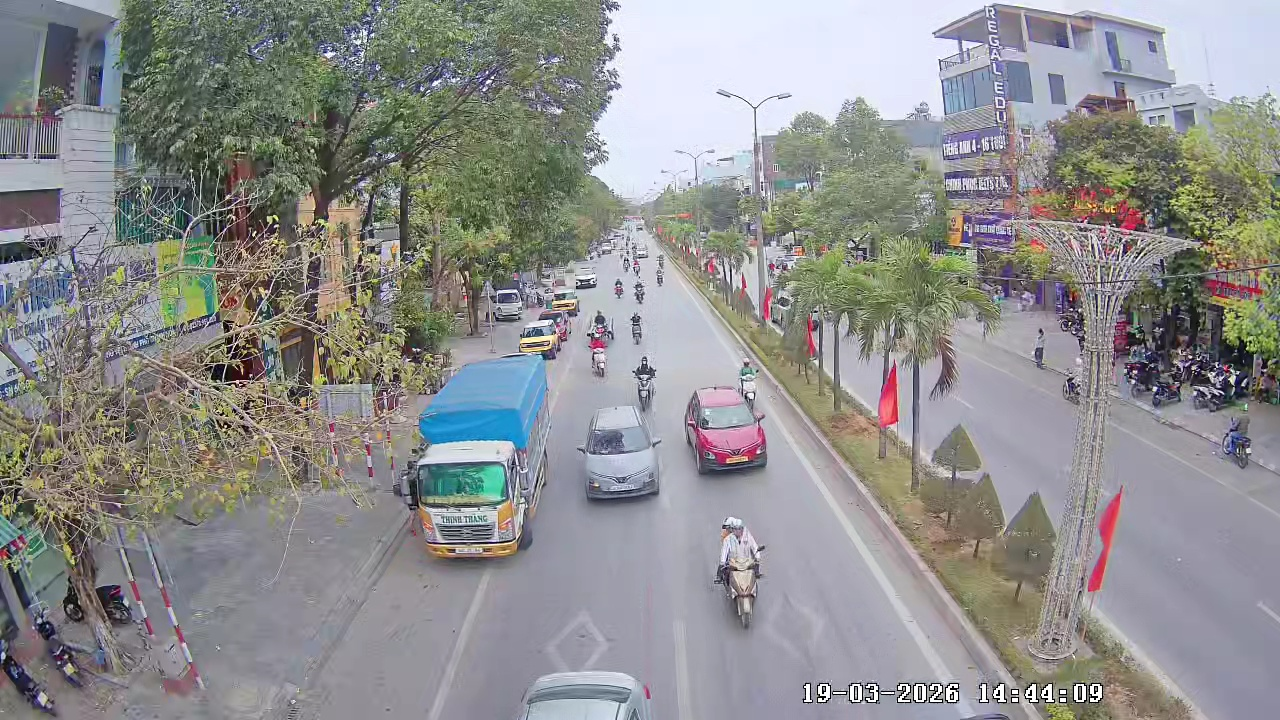car: (576, 404, 664, 502), (683, 387, 768, 475), (517, 668, 651, 719), (518, 316, 563, 359), (551, 281, 579, 316)
motorbike: (711, 515, 768, 630), (1220, 409, 1255, 470), (630, 353, 658, 413), (737, 360, 758, 411), (588, 336, 609, 378), (590, 310, 613, 344), (629, 310, 645, 344), (613, 275, 625, 300)
truck: (409, 355, 552, 559)
